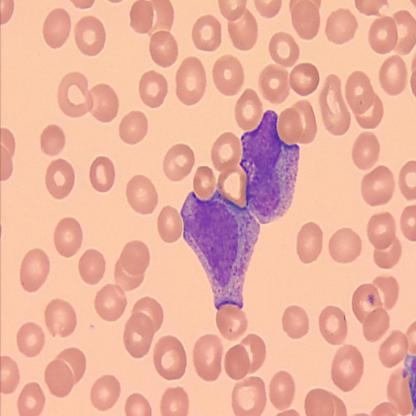Myelocyte: (180, 188, 260, 312), (239, 110, 304, 224)
